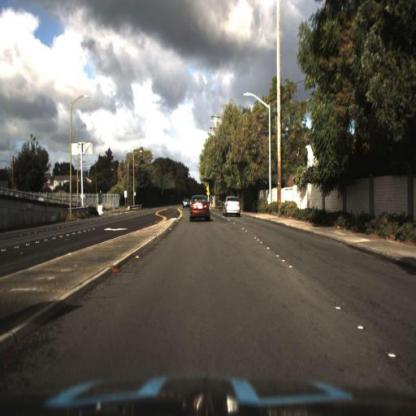car: (188, 192, 215, 226), (223, 196, 243, 220)
